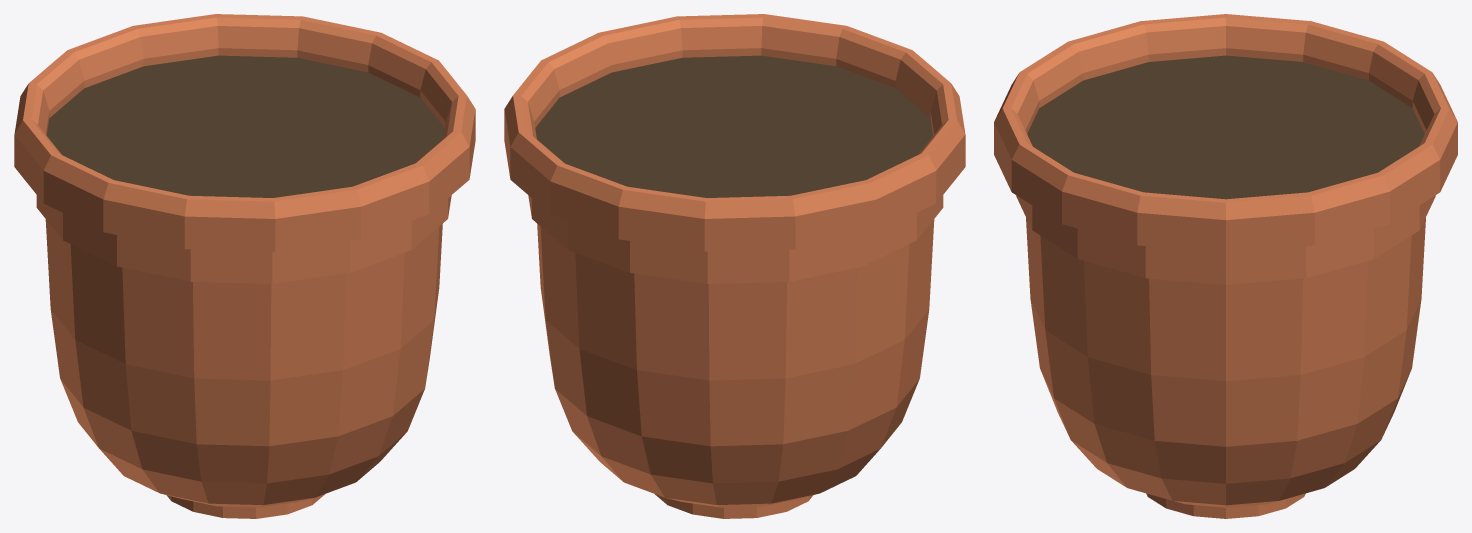
File: pot_1.fbx
3 renders of one model, left to right at view 1: azimuth 30°, elevation 25°; view 2: azimuth 150°, elevation 25°; view 3: azimuth 270°, elevation 25°, orthographic.
Parts seen in each view (by area): view 1: pot; view 2: pot; view 3: pot.
Part boxes in pixels (x1,y1,x2,y2): pot: (14,14,475,518); pot: (504,14,965,518); pot: (994,14,1457,518).
Size of the model in its own units: 547 by 488 by 547.
